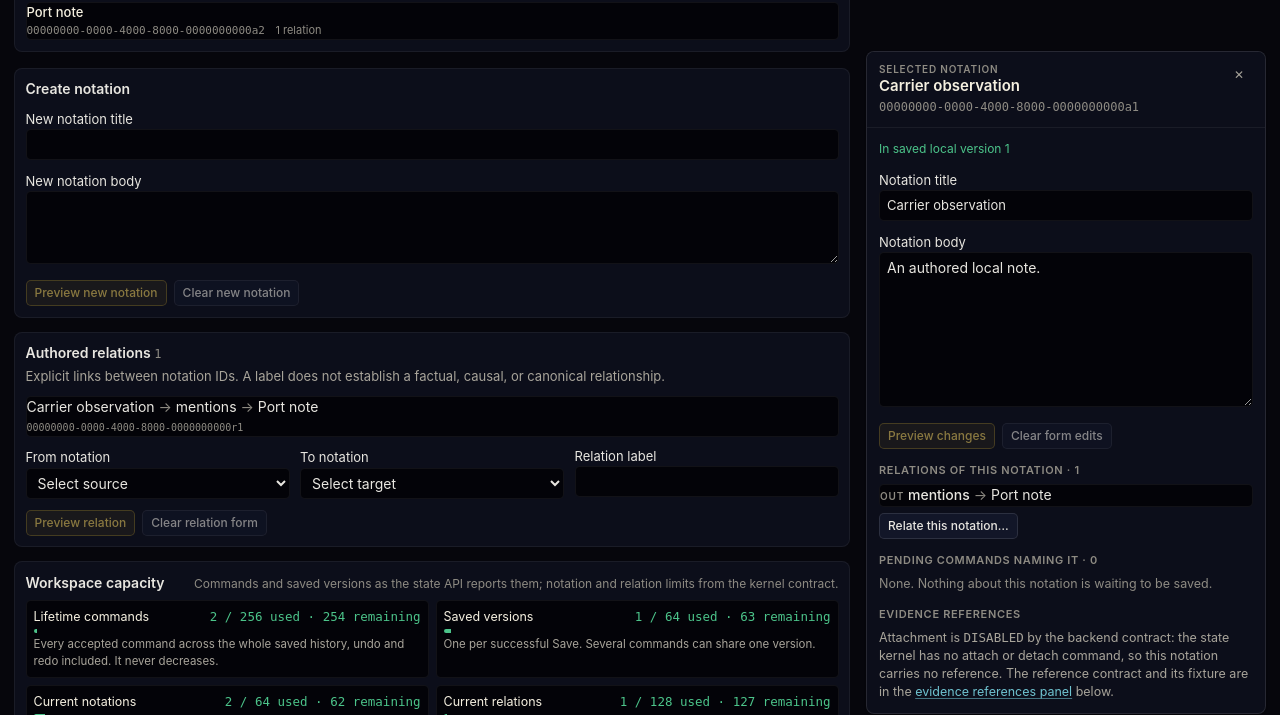
Scenario: NotationWorkspace inspector and keyboard › creates relations from the inspector and inspects them: Relate pre-fills the source and moves focus to the target; a selected relation shows both ends and leads
(page scrolled)
Step 1. Click the button "Relate this notation…" → (948, 525), box [879,512,1018,538]
(page scrolled)
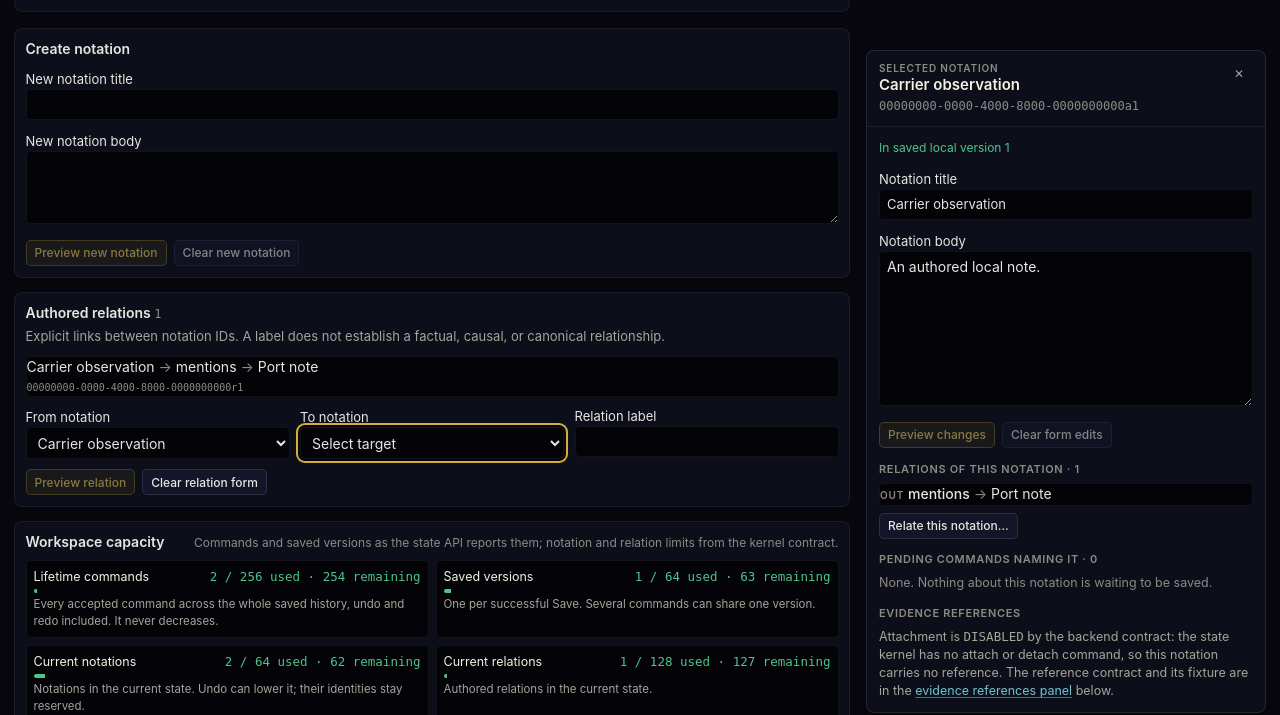
Now the dropdown labelled "From notation" shows "Carrier observation", box [26,427,290,459]
Step 2. Click the button with aria-label "Inspect relation mentions" → (91, 367), box [26,356,838,397]
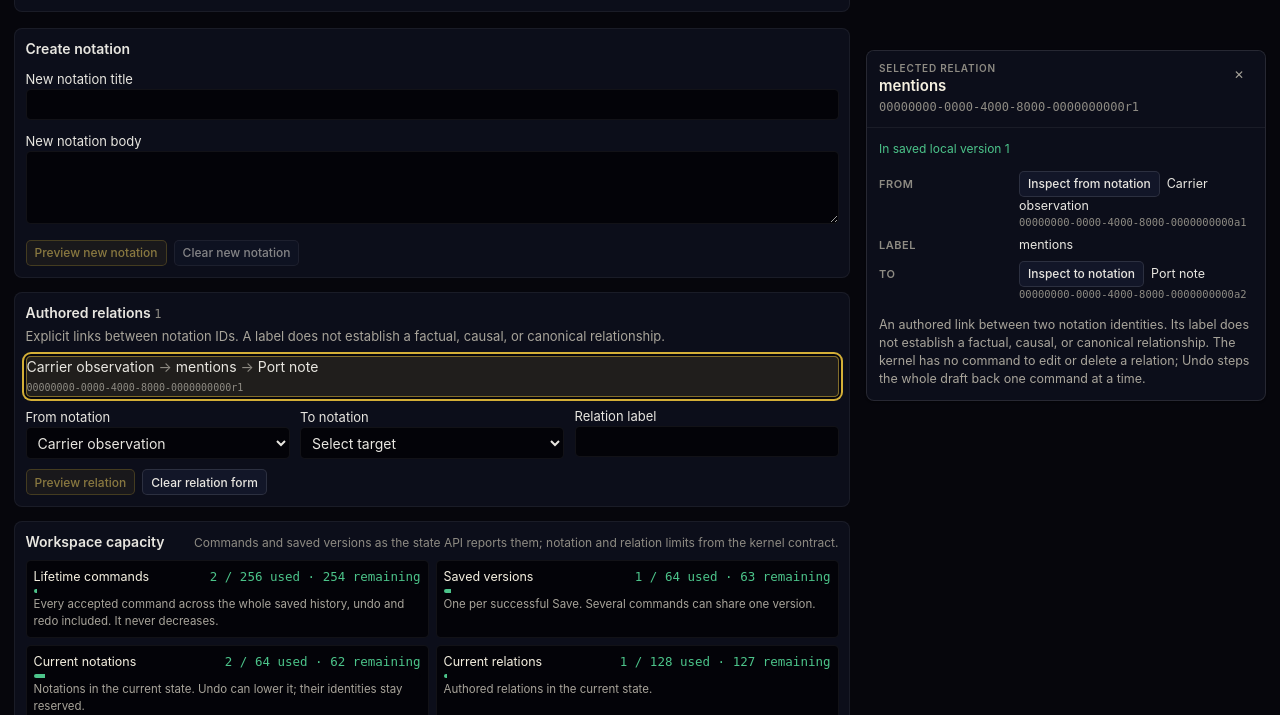
Now the element with test id "notation-inspector" is gone
Now the heading "mentions" is shown, box [879,76,946,94]
Now the text with test id "selected-relation-id" reads "00000000-0000-4000-8000-0000000000r1", box [879,100,1139,114]
Step 3. Click the button "Inspect to notation" → (1082, 273), box [1019,260,1144,286]
(page scrolled)
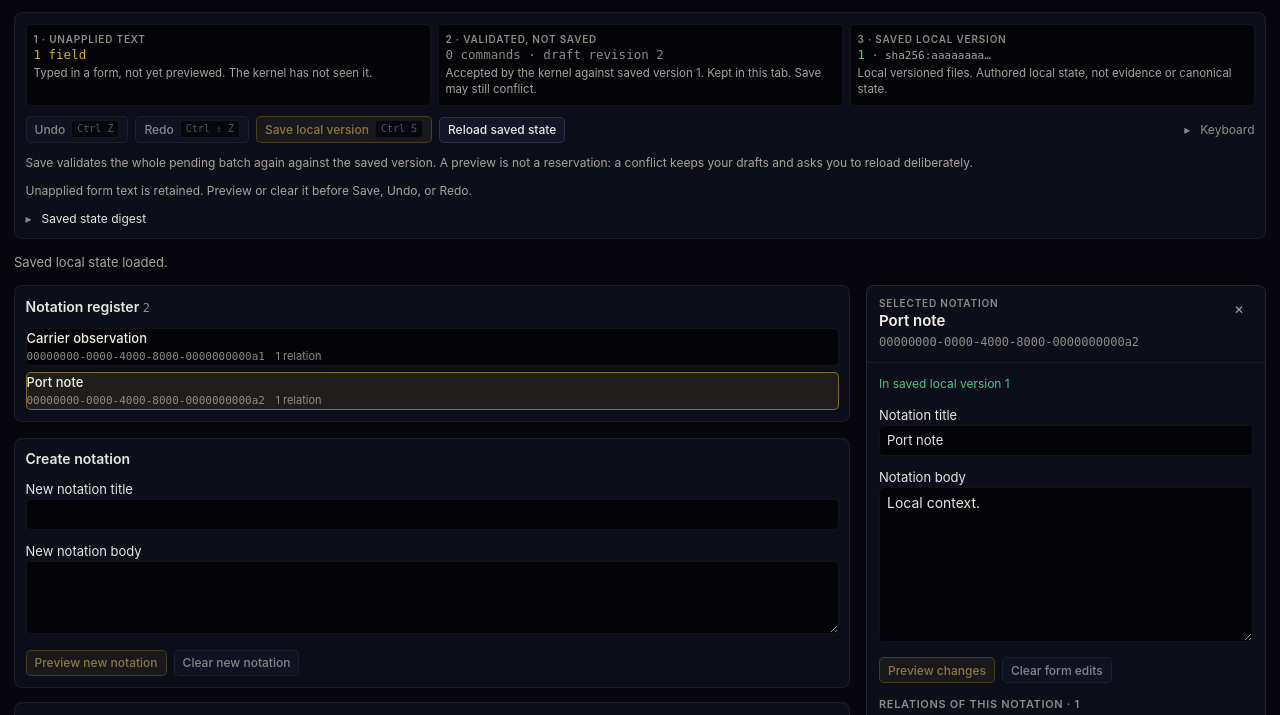
Now the text with test id "selected-notation-id" reads "00000000-0000-4000-8000-0000000000a2", box [879,335,1139,349]
Now the element with test id "relation-inspector" is gone
